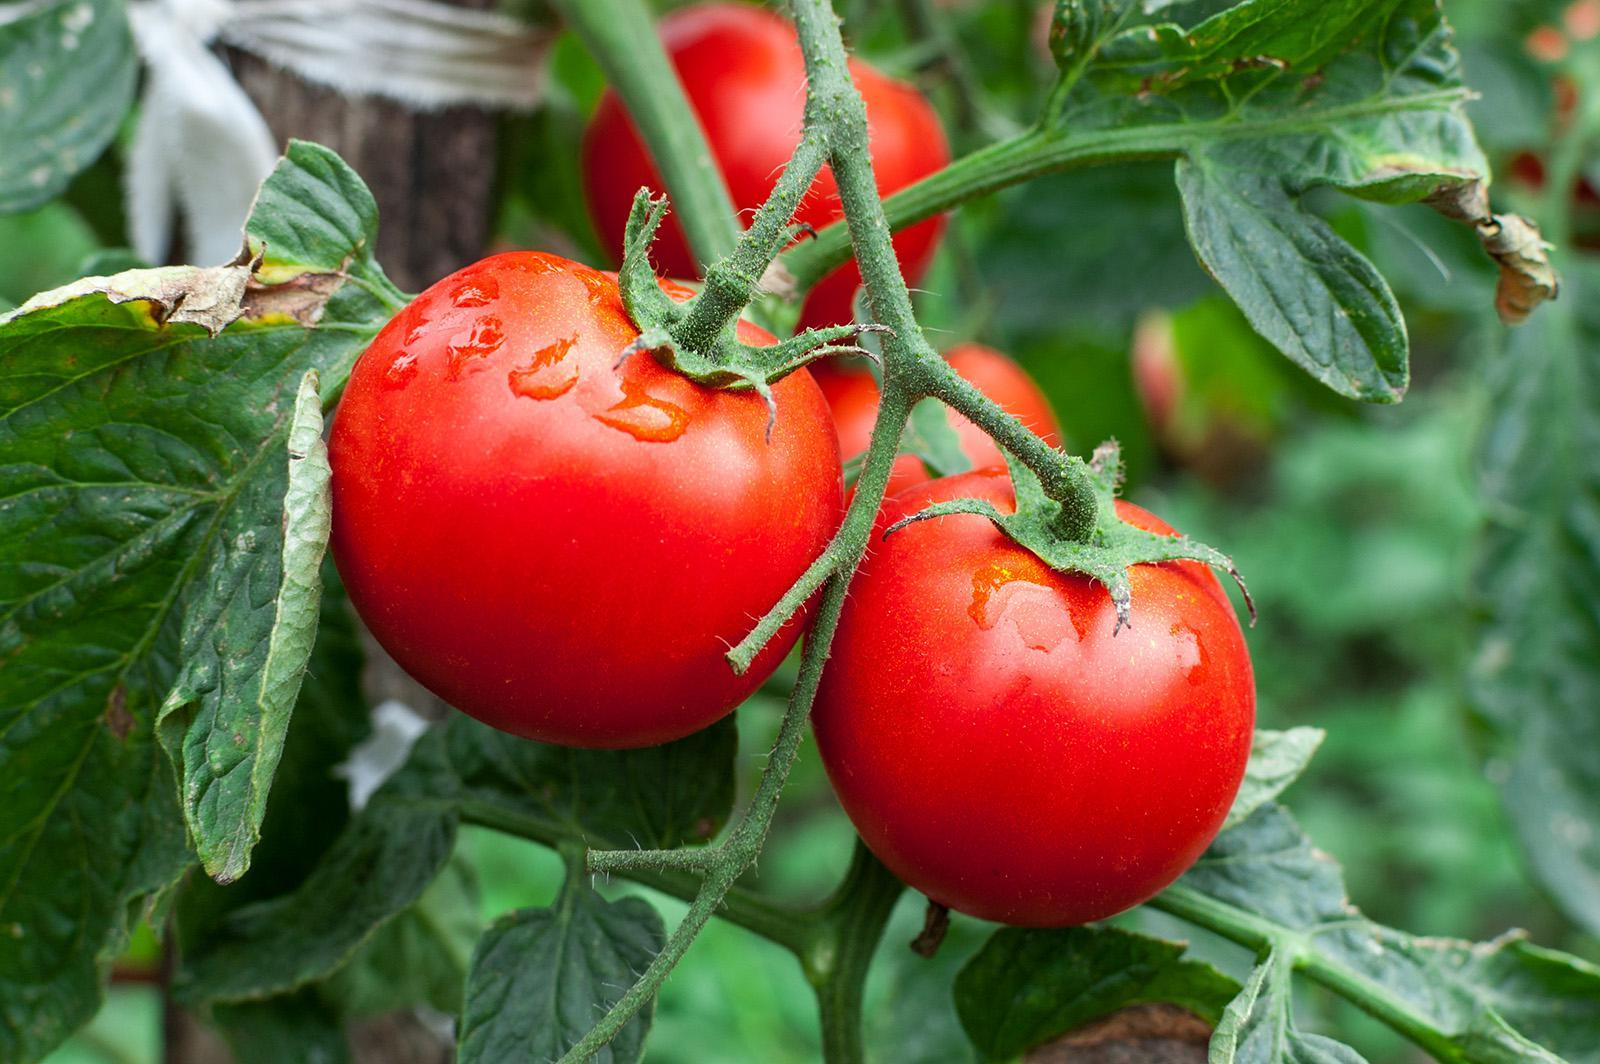tomato: (325, 244, 846, 750), (808, 460, 1258, 928), (580, 2, 952, 353), (780, 342, 1064, 691), (783, 213, 1065, 500), (816, 340, 1064, 503), (783, 200, 946, 408), (1130, 298, 1279, 491), (815, 353, 948, 501), (936, 341, 1064, 472), (1129, 307, 1187, 451), (841, 449, 932, 507)
